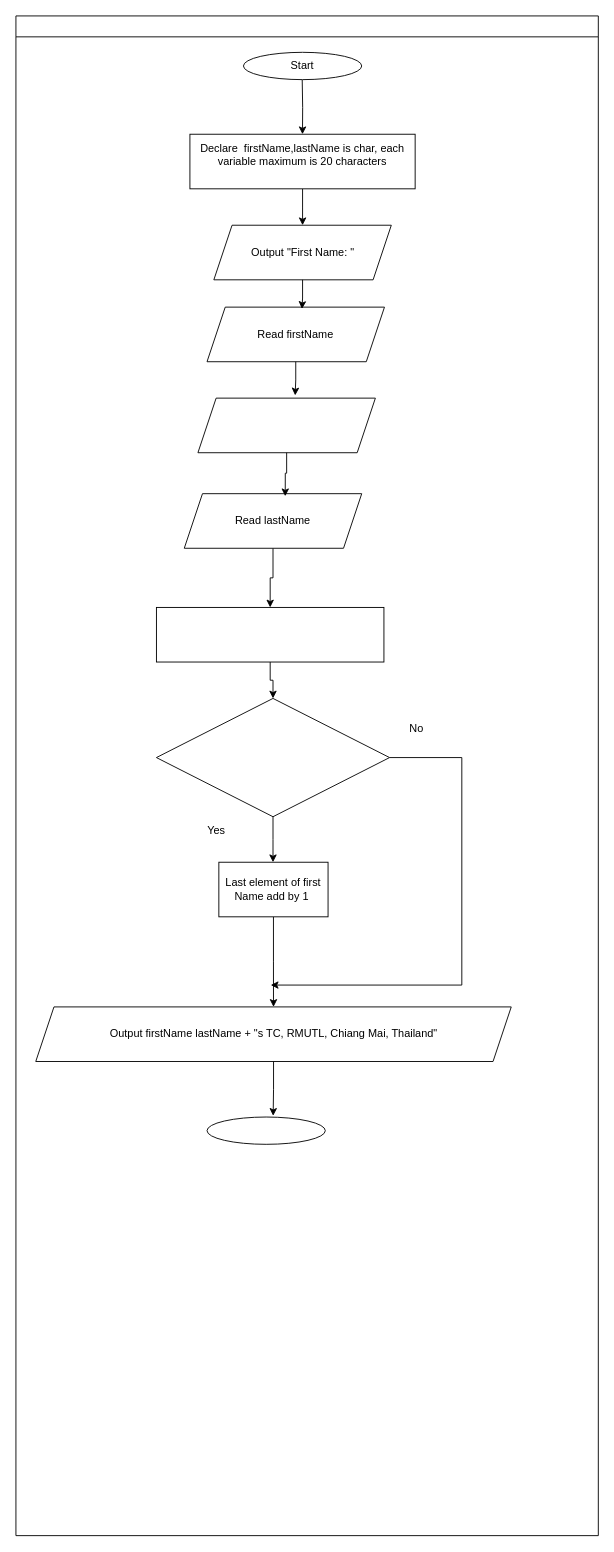
This 614x1552 diagram has some shape labels left out. Each missing label, with the centre of its shape:
Declare len is int, call function for find length of firstName: point (270, 634)
End: point (265, 1130)
If last element of firstName is equal C letter: point (273, 757)
Output "Last Name: ": point (286, 425)
